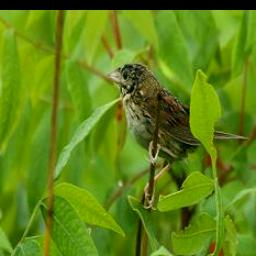Sparrow: (108, 60, 253, 213)
